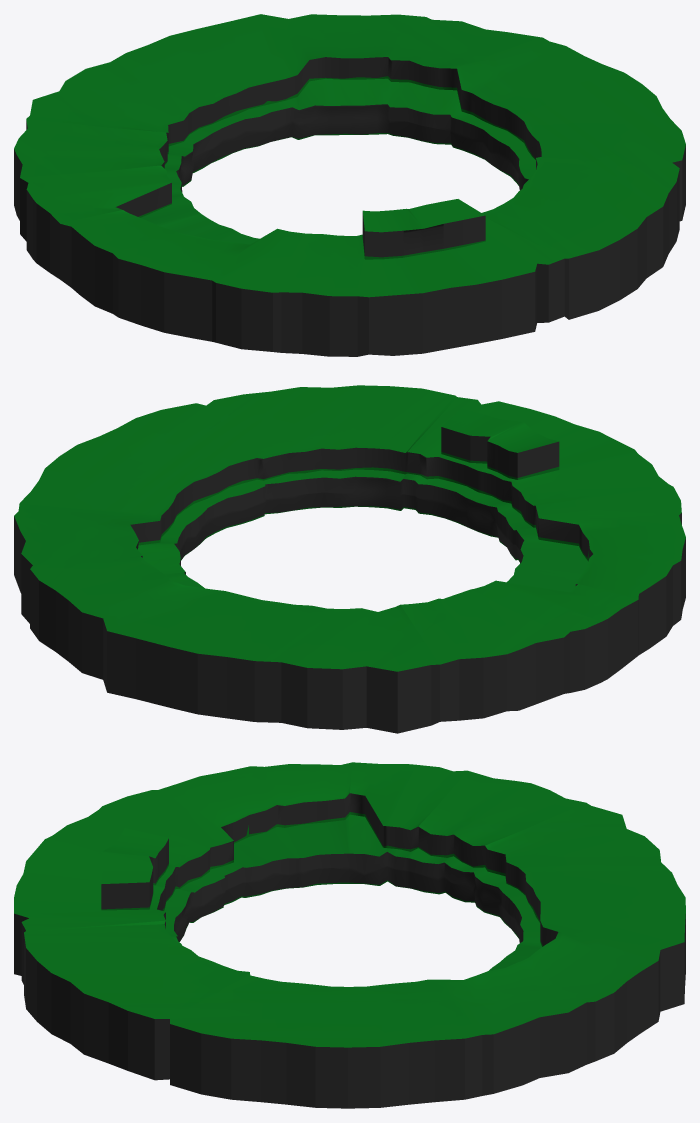
The model's file is Arena.fbx.
3 views of the same model, one above another, from view 1: azimuth 30°, elevation 25°; view 2: azimuth 150°, elevation 25°; view 3: azimuth 270°, elevation 25° (orthographic).
Visible parts, largest first — view 1: arena; view 2: arena; view 3: arena.
Part boxes in pixels (x1,y1,x2,y2): arena: [14, 14, 685, 356]; arena: [14, 385, 685, 733]; arena: [14, 762, 685, 1108].
Bounding box in the file's own units: 4960 × 737 × 4938.
Materials: 1 (1 with a texture image).
